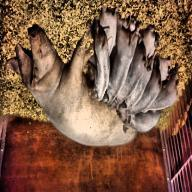boar: (3, 4, 182, 146)
